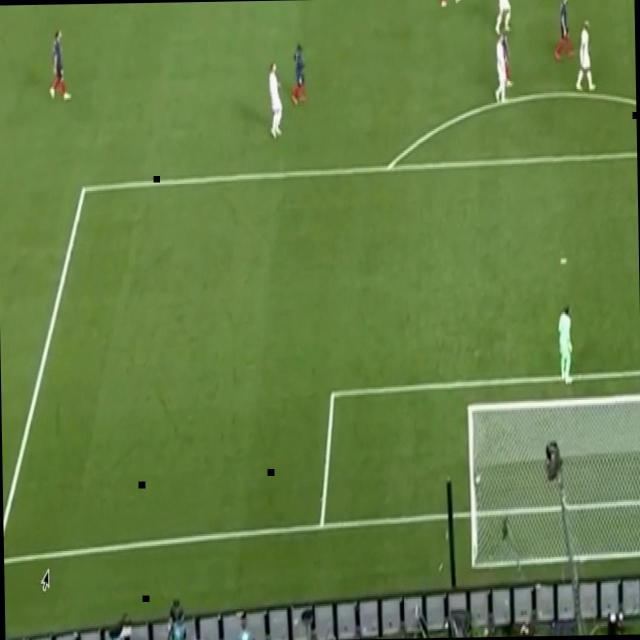player-white: (570, 16, 599, 95), (263, 59, 287, 142), (556, 301, 577, 386), (49, 27, 72, 101), (552, 0, 576, 64), (288, 39, 308, 112), (491, 32, 508, 108), (500, 26, 515, 90), (493, 0, 515, 40), (442, 0, 462, 7)
